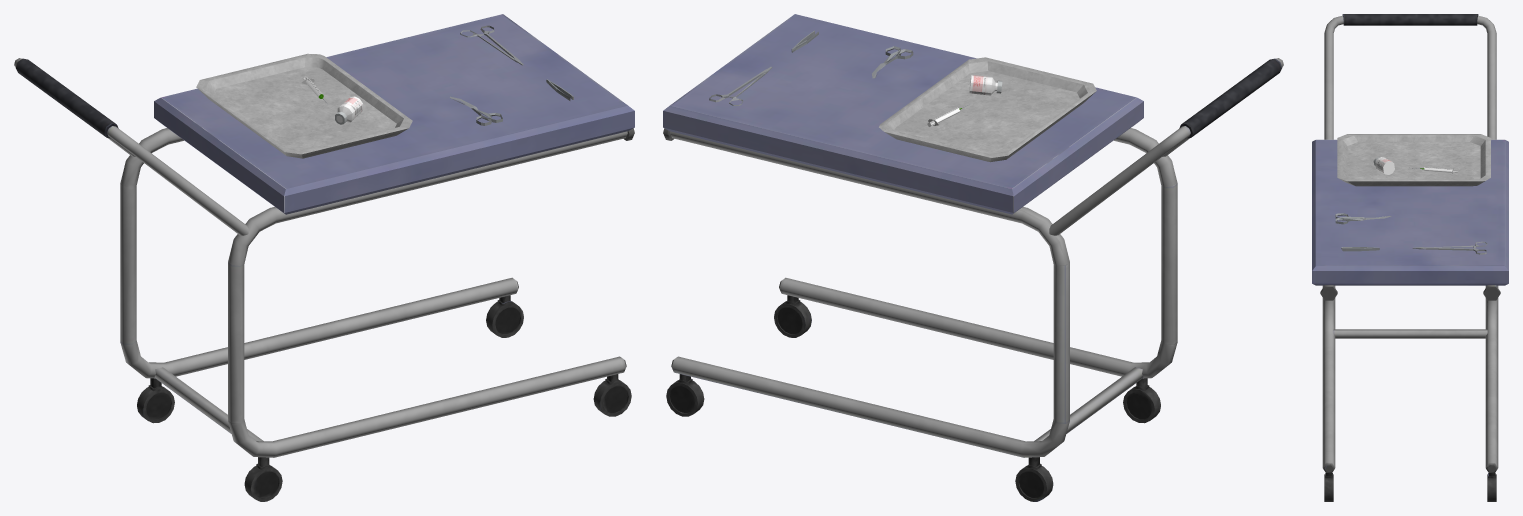
The model's file is 8first-aid.glb.
The picture shows the model from 3 angles, left to right: view 1: azimuth 30°, elevation 25°; view 2: azimuth 150°, elevation 25°; view 3: azimuth 270°, elevation 25°; orthographic projection. The views are drawn at different scales.
Parts seen in each view (by area): view 1: Tray1; view 2: Tray1; view 3: Tray1.
Boxes of the visible parts, left/top/right/bottom form: Tray1: left=14, top=14, right=634, bottom=501; Tray1: left=663, top=14, right=1283, bottom=501; Tray1: left=1312, top=14, right=1508, bottom=501.
Bounding box in the file's own units: 0.9262 × 0.6934 × 0.4051.
2 materials, 2 textured.
